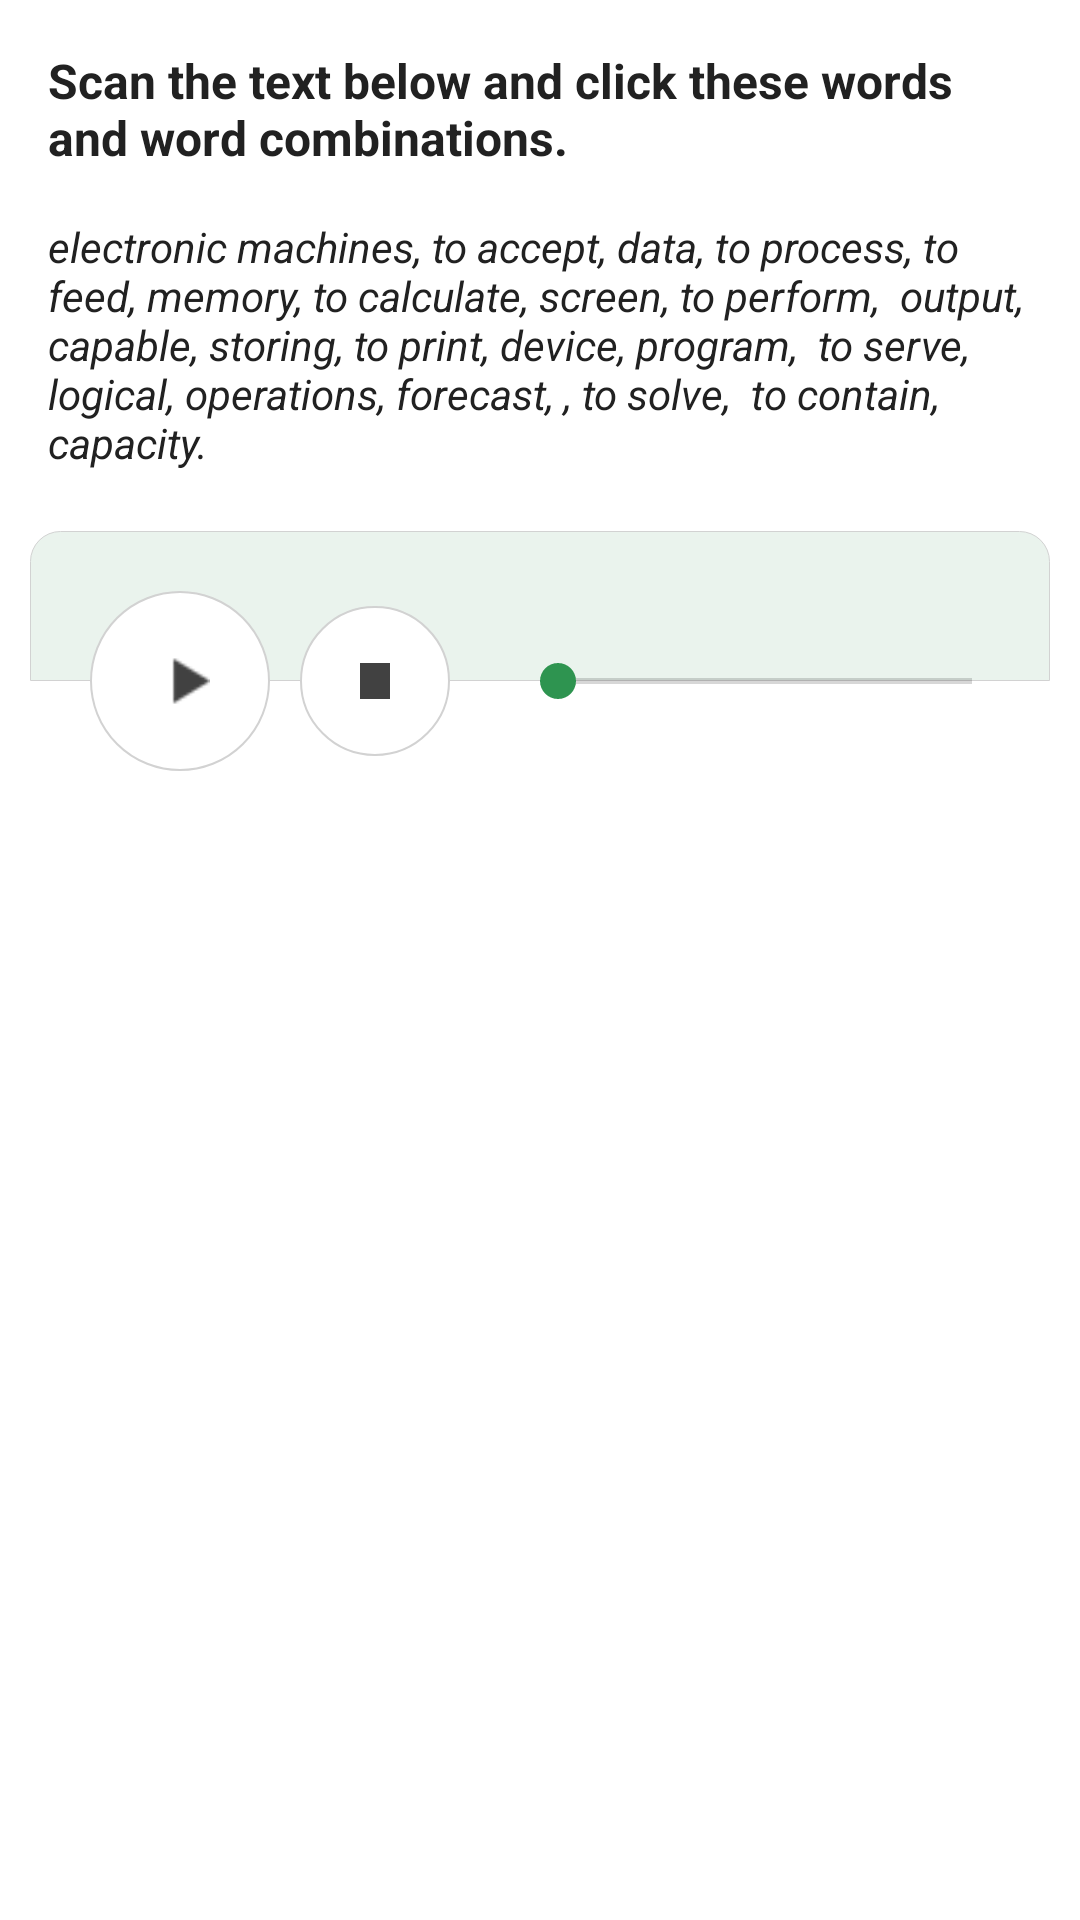

Screen size 1080×1920. Icon name, then its box in pixels as (x1, y1, x2, y2):
play: (173, 658, 210, 704)
